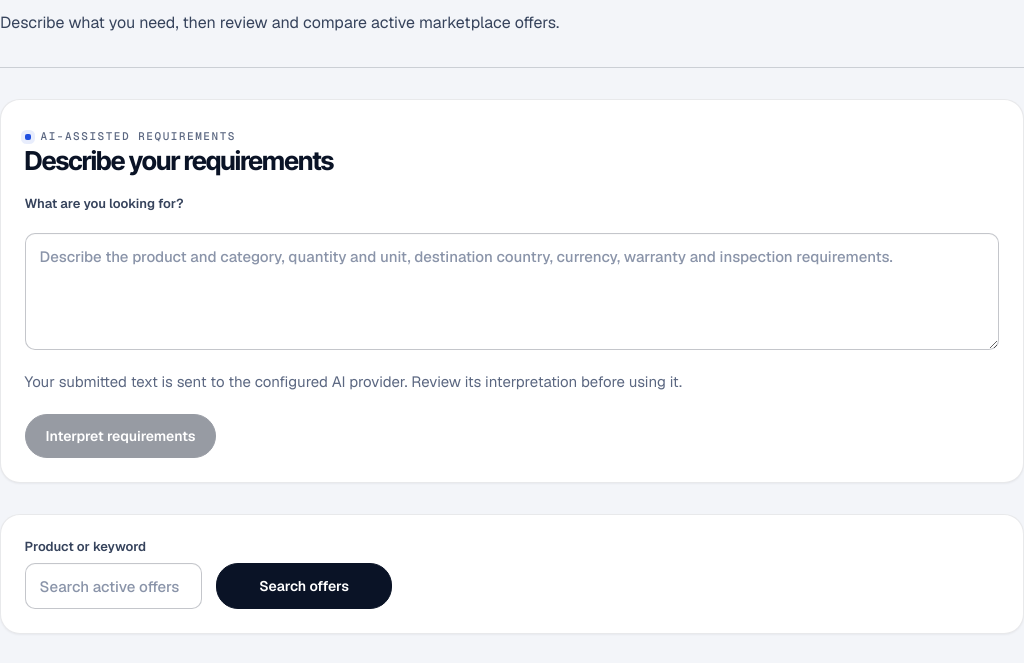
Test: live sourcing › surfaces provider and listing failures while allowing manual search and retry
Replace the text in the text box labelled "What are you looking for?" with "Need bolts". click: (512, 292)
box: [24,233,999,350]
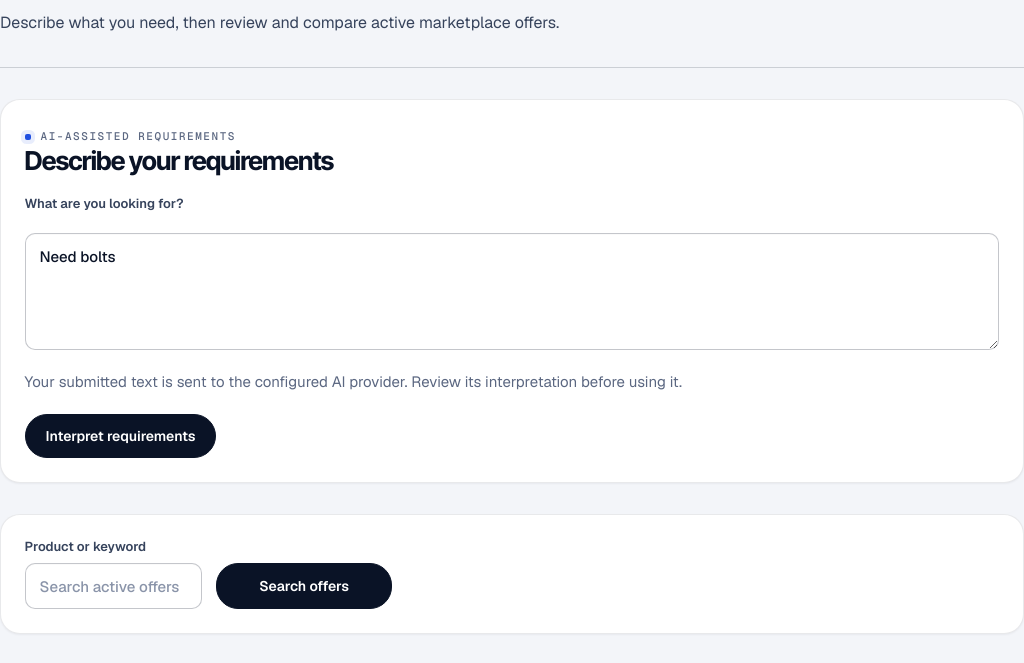
Click the button "Interpret requirements". click: (120, 436)
box: [24,414,216,458]
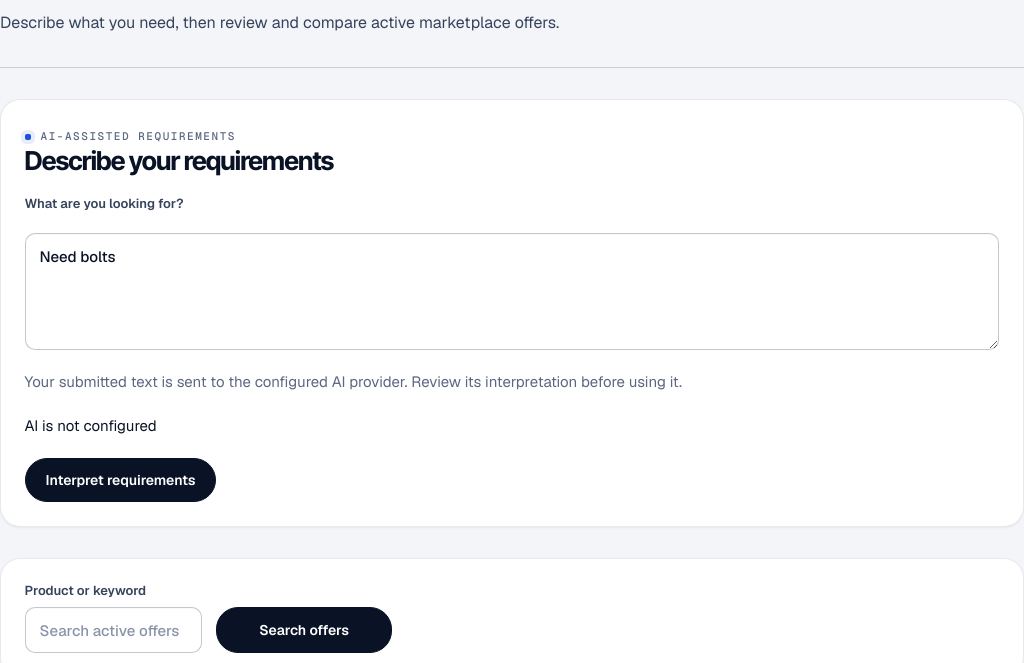
Now the text "AI is not configured" is shown, box [24,416,157,435]
Click the button "Search offers". click: (304, 630)
box: [216,607,392,653]
(page scrolled)
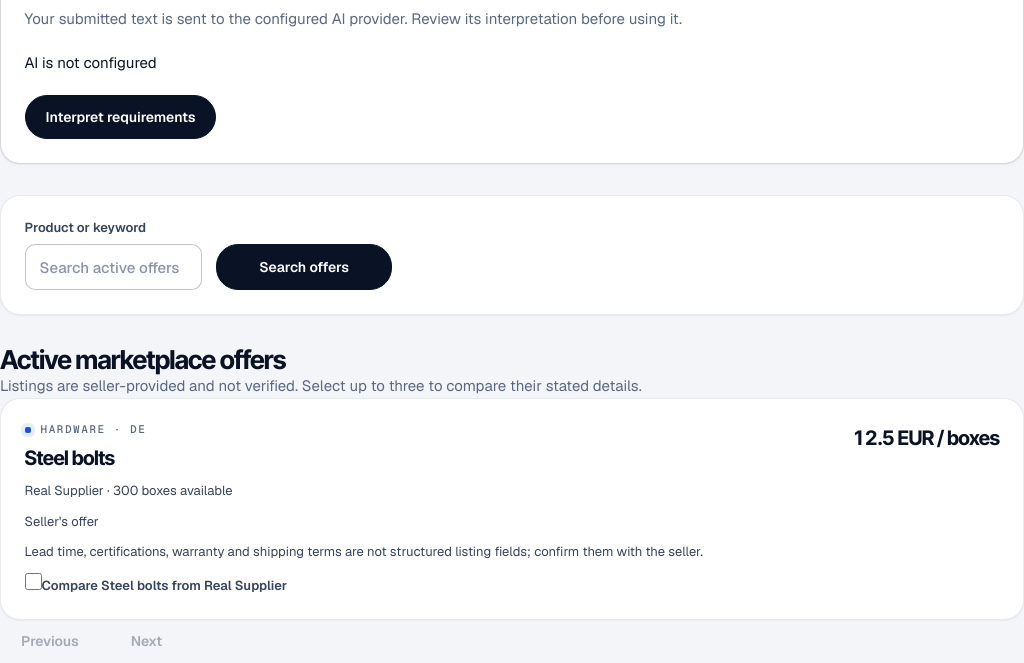
Now the heading "Steel bolts" is shown, box [24,446,115,470]
